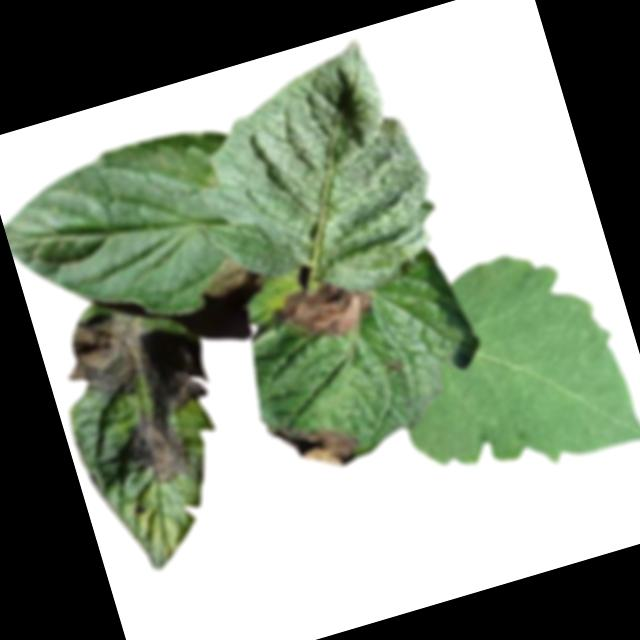Late_blight: (51, 287, 216, 437), (265, 268, 380, 357), (117, 404, 212, 501), (268, 404, 366, 483), (196, 250, 263, 303), (384, 353, 408, 374)
healthy: (161, 29, 455, 330), (367, 232, 640, 502)
